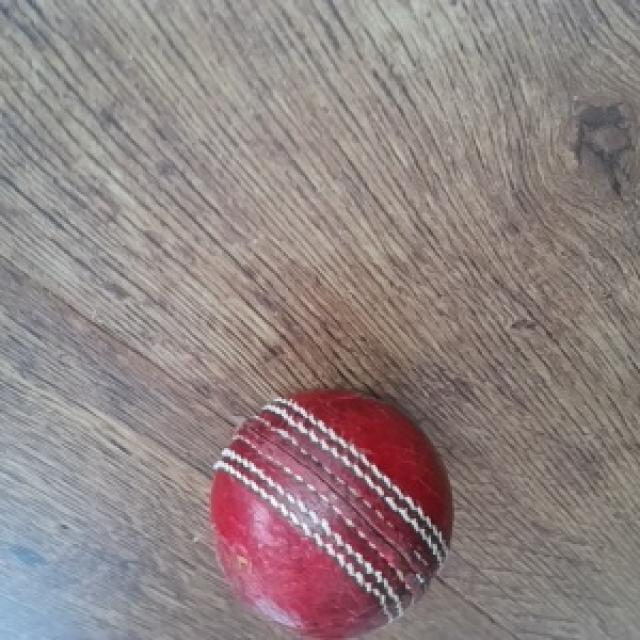ball: (213, 389, 448, 640)
